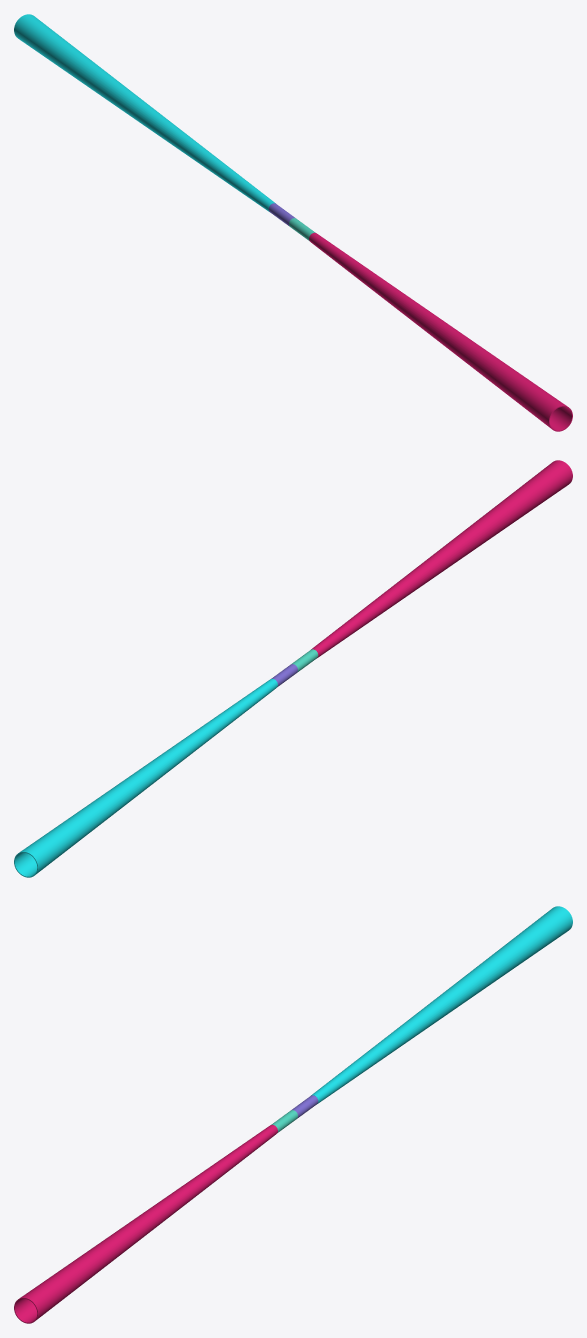
The model's file is IDEA_o2_v01.gltf.
The picture shows the model from 3 angles, top to bottom: view 1: azimuth 30°, elevation 25°; view 2: azimuth 150°, elevation 25°; view 3: azimuth 330°, elevation 25°; orthographic projection.
Visible parts, largest first — view 1: tube_AlBeMet162_wall_6, tube_AlBeMet162_wall2_7; view 2: tube_AlBeMet162_wall2_7, tube_AlBeMet162_wall_6; view 3: tube_AlBeMet162_wall_6, tube_AlBeMet162_wall2_7.
Boxes of the visible parts, box(x1,y1,x2,y2) form: tube_AlBeMet162_wall_6: box(309, 232, 572, 431); tube_AlBeMet162_wall2_7: box(14, 14, 275, 211); tube_AlBeMet162_wall2_7: box(14, 678, 277, 877); tube_AlBeMet162_wall_6: box(311, 460, 572, 657); tube_AlBeMet162_wall_6: box(14, 1124, 277, 1323); tube_AlBeMet162_wall2_7: box(311, 906, 572, 1103).
Bounding box in the file's own units: 6.18 × 6.15 × 238.
